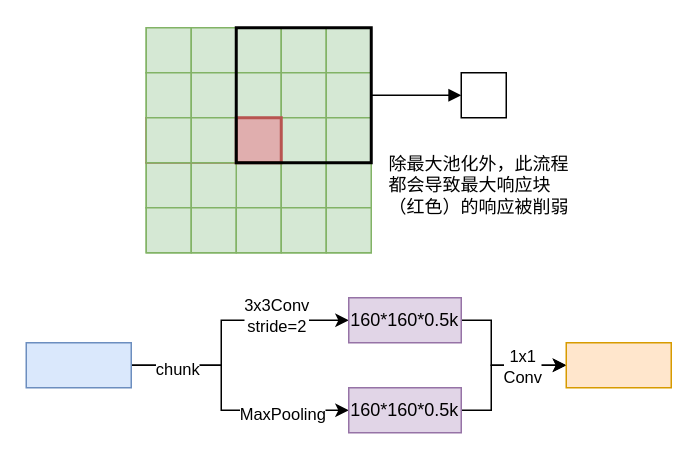
Some shapes in this 698 by 459 pixel diagram are drawn without their labels. The shapes that lost their labels are listed below. From the top down, each one's centre as x and y in pixels, then its label:
the point at 78,364: 320*320*k
the point at 618,364: 160*160*2k
